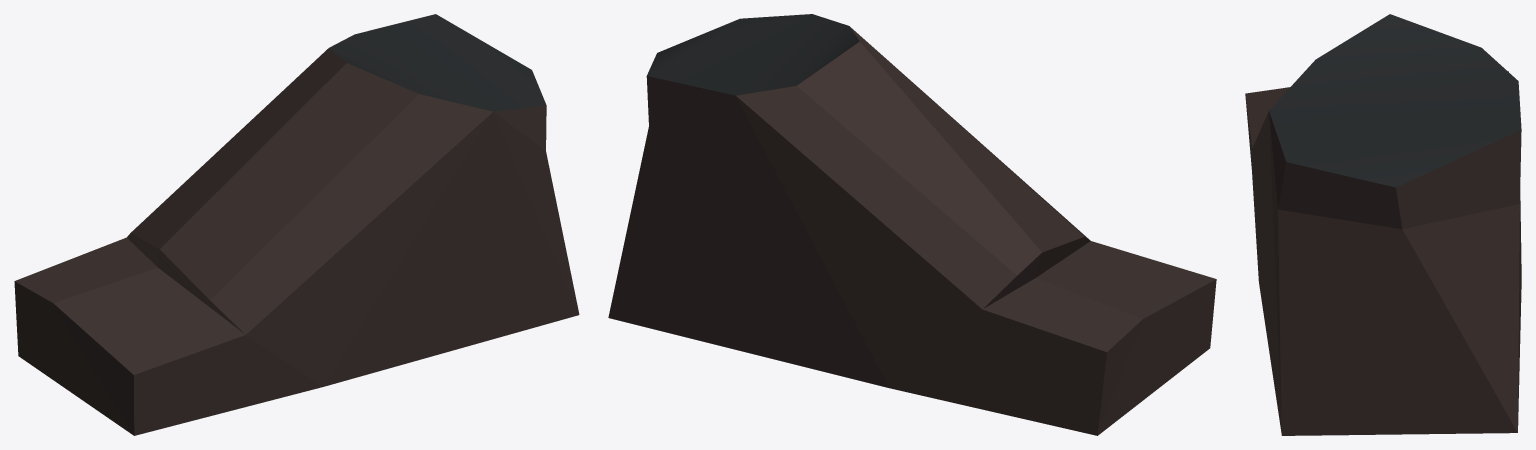
The model's file is SM_Prop_Shoes_03.glb.
3 renders of one model, left to right at view 1: azimuth 30°, elevation 25°; view 2: azimuth 150°, elevation 25°; view 3: azimuth 270°, elevation 25°, orthographic. The views are drawn at different scales.
Visible parts, largest first — view 1: SM_Prop_Shoes_03; view 2: SM_Prop_Shoes_03; view 3: SM_Prop_Shoes_03.
Part boxes in pixels (<box>): SM_Prop_Shoes_03: <box>14,14,579,435</box>; SM_Prop_Shoes_03: <box>608,14,1216,435</box>; SM_Prop_Shoes_03: <box>1245,14,1521,435</box>.
Size of the model in its own units: 0.2267 by 0.1219 by 0.0974.
Materials: 1 (1 with a texture image).
